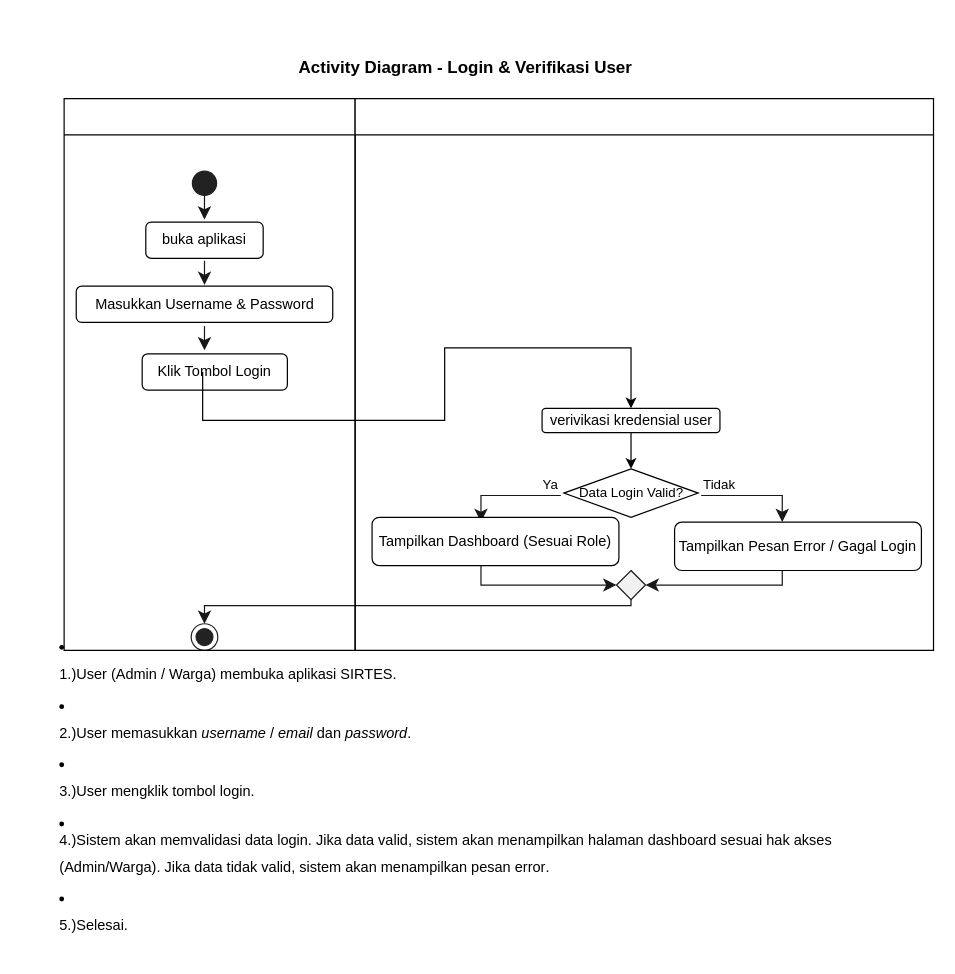
Image size: 955x974. Some labels were removed from this diagram. Here are the shapes that lost their labels. From the top down, the centre of each, then its label:
(209,373): user ( admin/warga)
(644,373): Sistem Sirtes
